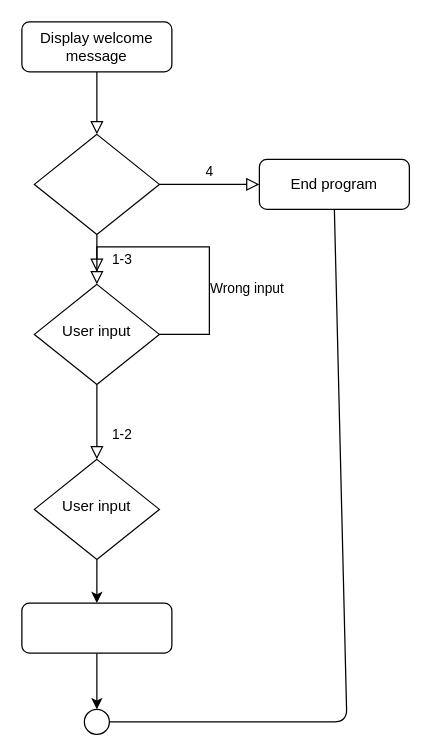
This 431x756 diagram has some shape labels left out. The centre of each missing label's shape, as x and y in pixels:
Display output: the point at 96,627
User unput: the point at 96,183
